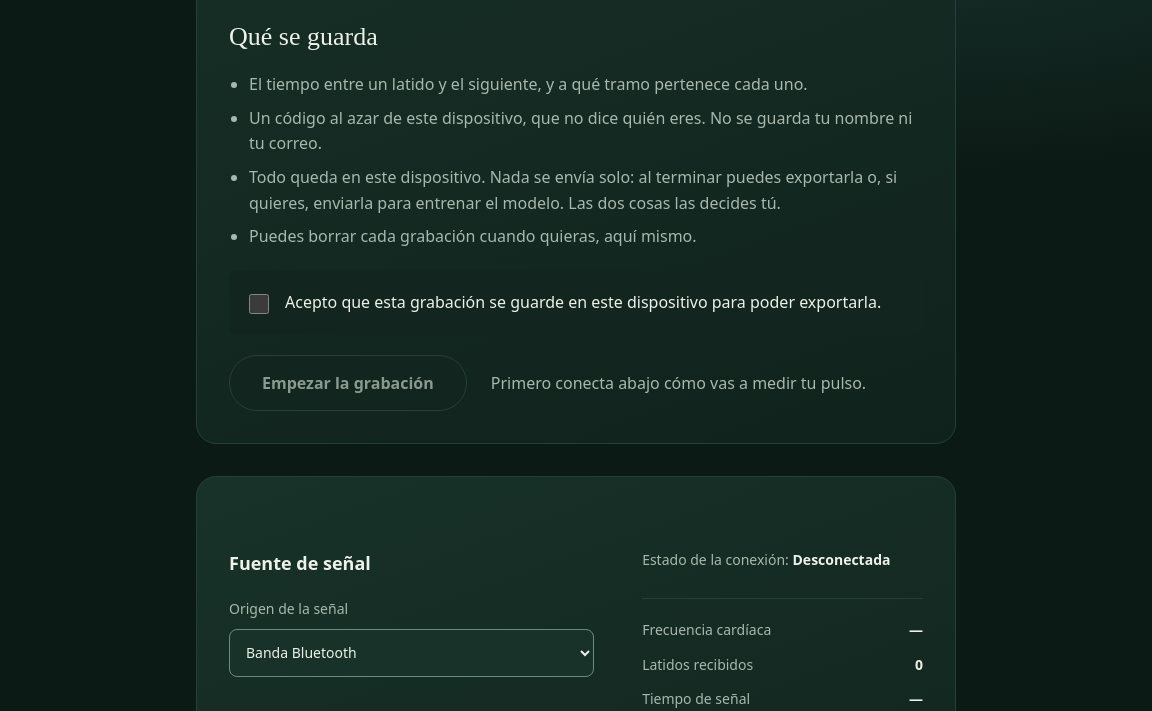
Test: CollectionPage › does not start without the explicit consent and a connected source
(page scrolled)
expect the button "Empezar la grabación" is disabled: met, box left=229, top=356, right=467, bottom=412
Click the checkbox labelled "Acepto que esta grabación se guarde en este dispositivo para poder exportarla.": x=259, y=304 left=249, top=294, right=269, bottom=314
(page scrolled)
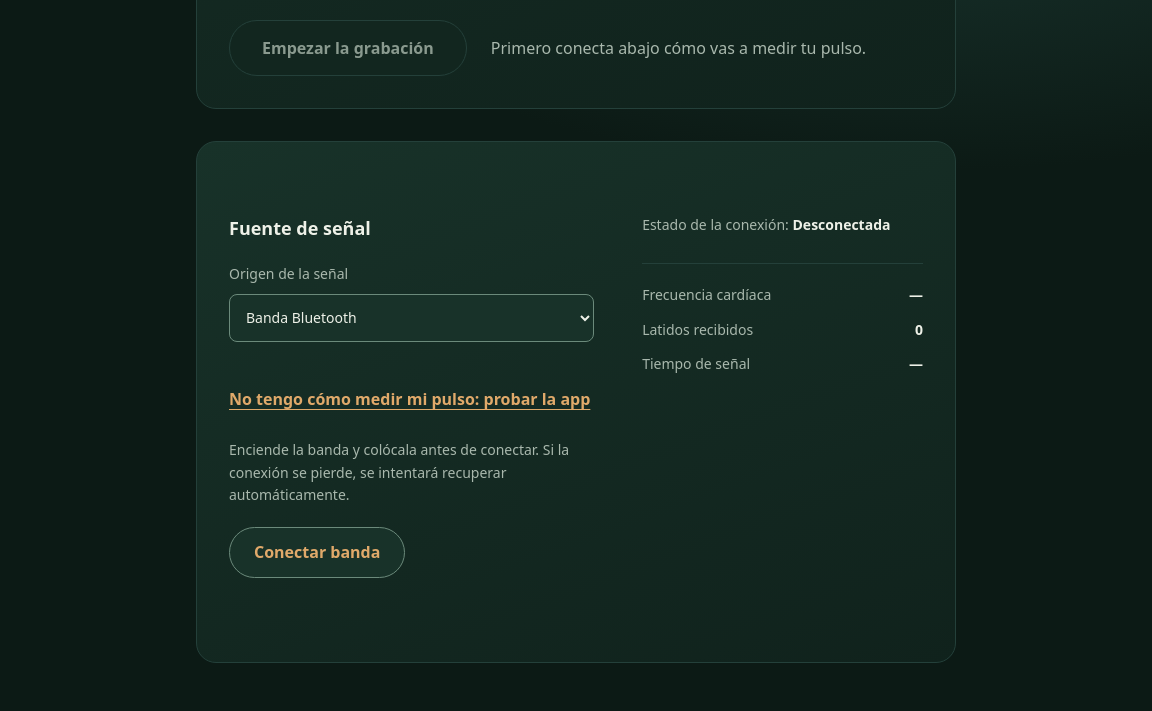
expect the button "Empezar la grabación" is disabled: met, box left=229, top=20, right=467, bottom=76
Click the button "Conectar banda": x=317, y=552 left=229, top=527, right=405, bottom=578
(page scrolled)
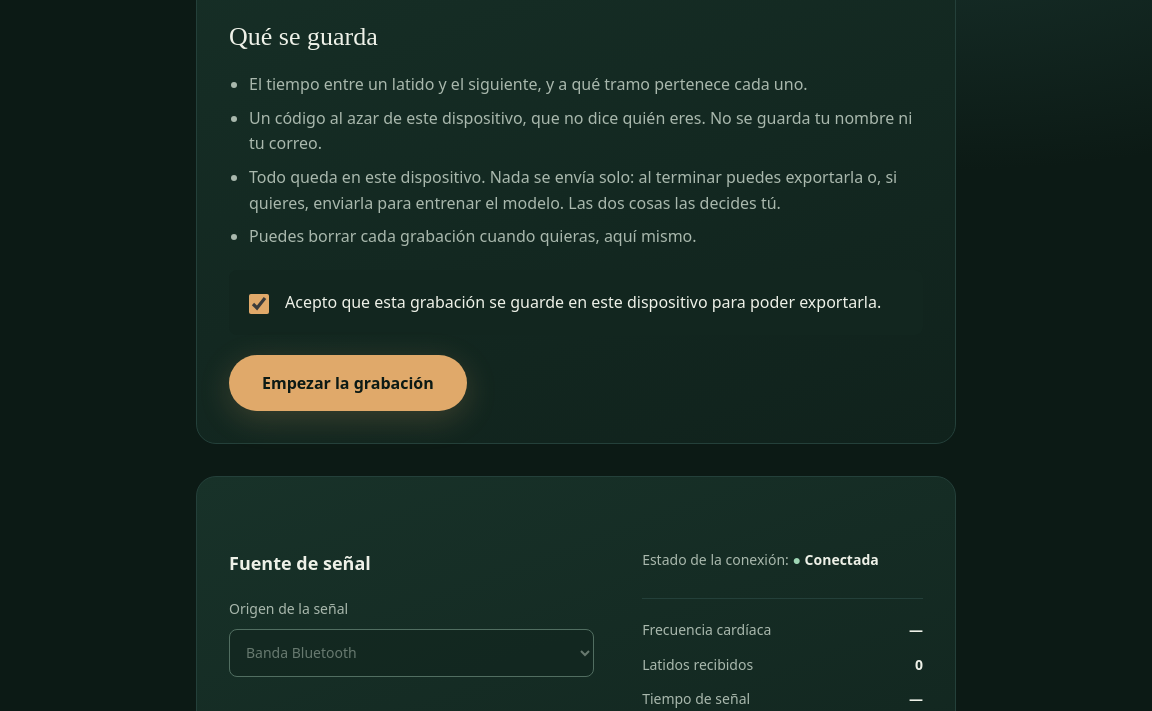
expect the button "Empezar la grabación" is enabled: met, box left=229, top=356, right=467, bottom=412
Click the checkbox labelled "Acepto que esta grabación se guarde en este dispositivo para poder exportarla.": x=259, y=304 left=249, top=294, right=269, bottom=314
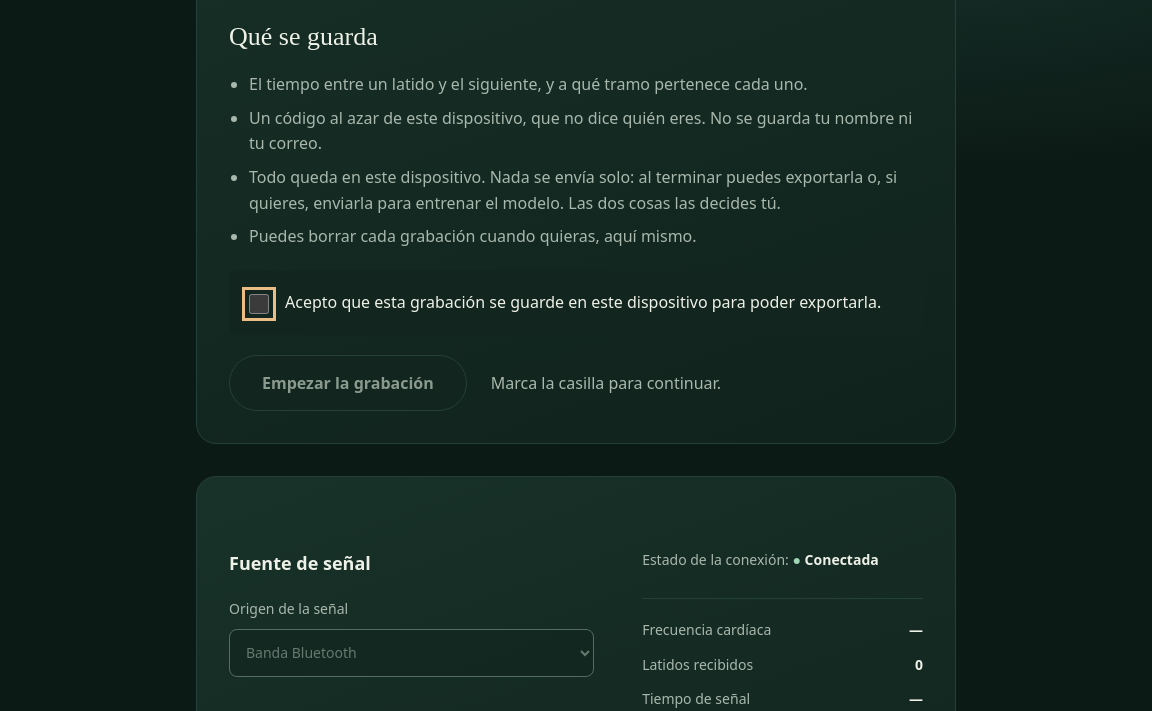
expect the button "Empezar la grabación" is disabled: met, box left=229, top=356, right=467, bottom=412
